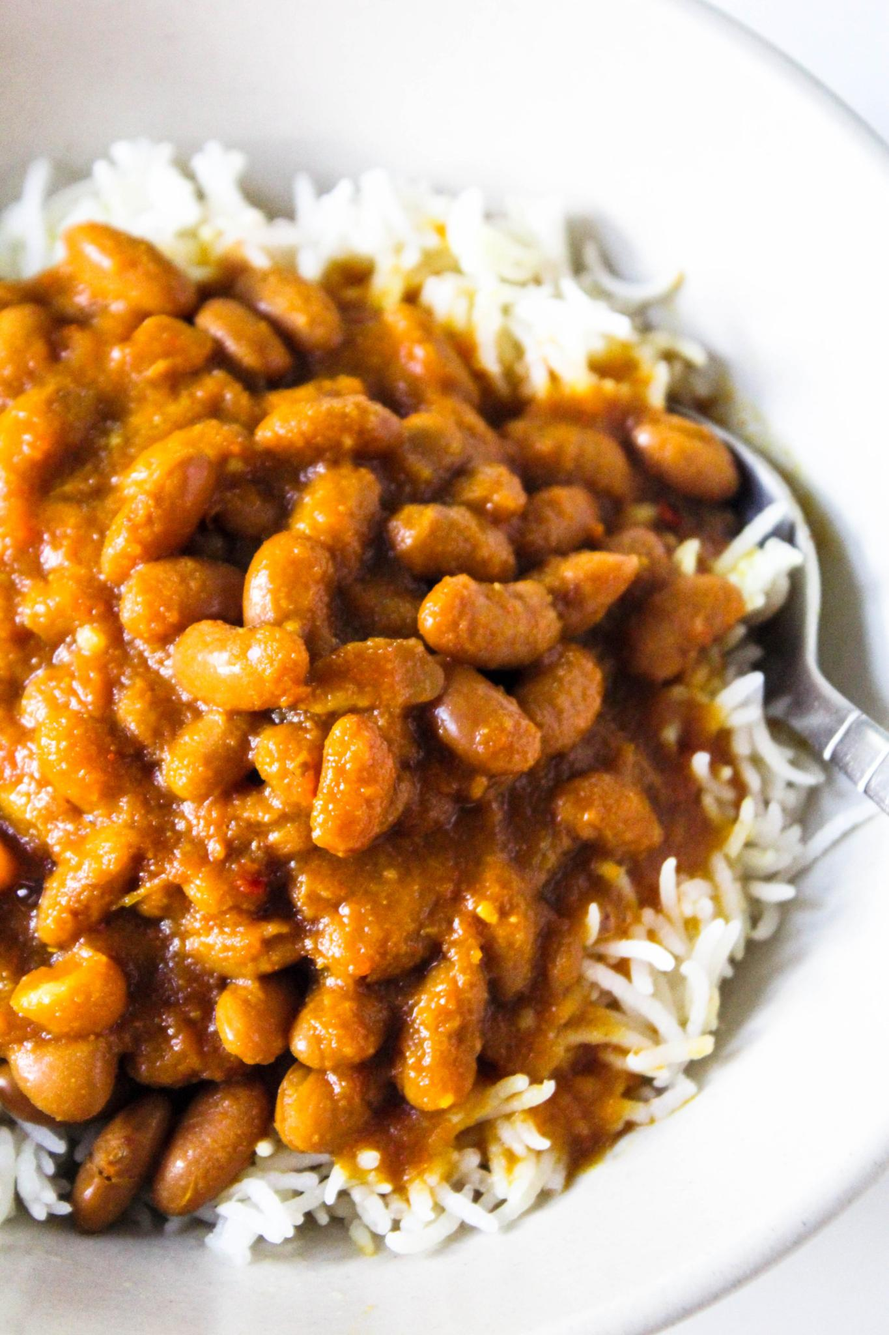rajma: (3, 302, 524, 1173)
